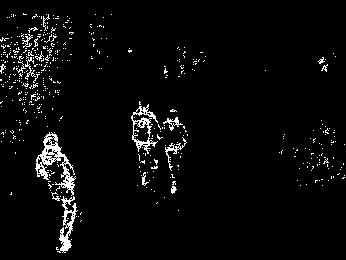person: (36, 132, 76, 254), (130, 97, 160, 191), (159, 107, 189, 196)
